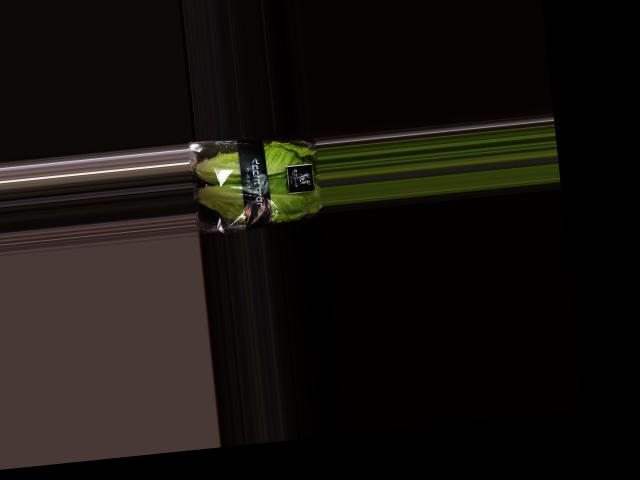lettuce: (187, 130, 322, 229)
